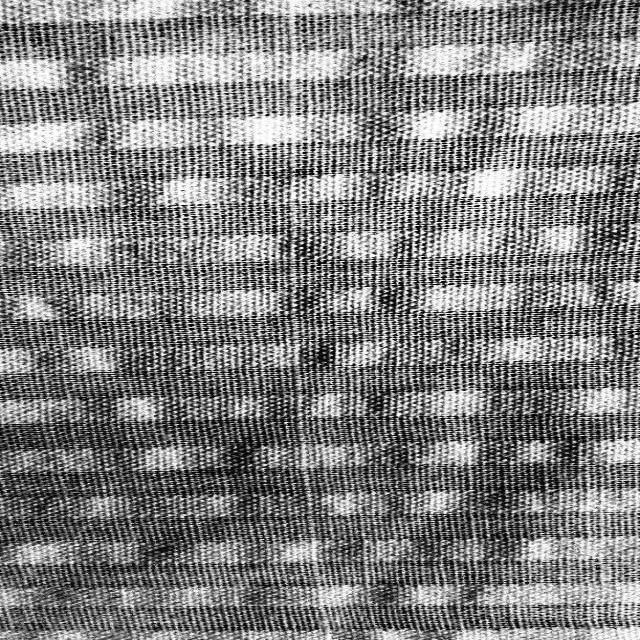Foreign_yarn: (262, 0, 360, 640)
